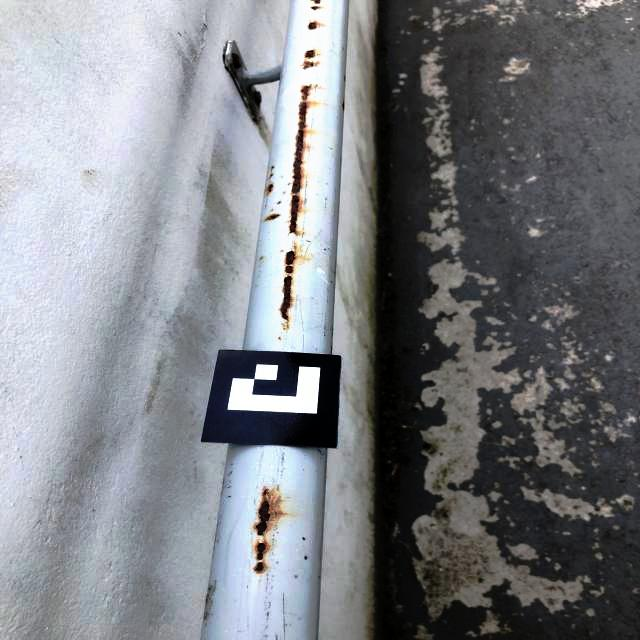Corrosion: (252, 485, 287, 538), (287, 128, 311, 194), (279, 275, 295, 330), (252, 537, 271, 574), (286, 195, 303, 236), (297, 100, 311, 130), (299, 83, 316, 102), (283, 244, 298, 265), (302, 59, 320, 70), (306, 20, 324, 31), (254, 91, 262, 108), (232, 53, 241, 68), (304, 48, 316, 59), (246, 104, 256, 116), (284, 265, 295, 275), (265, 214, 280, 221), (266, 184, 273, 196), (240, 85, 247, 97), (231, 67, 237, 80), (310, 5, 322, 10), (309, 0, 321, 4), (342, 99, 344, 112), (269, 174, 274, 178), (277, 201, 282, 204), (272, 166, 274, 169), (344, 75, 345, 81)
